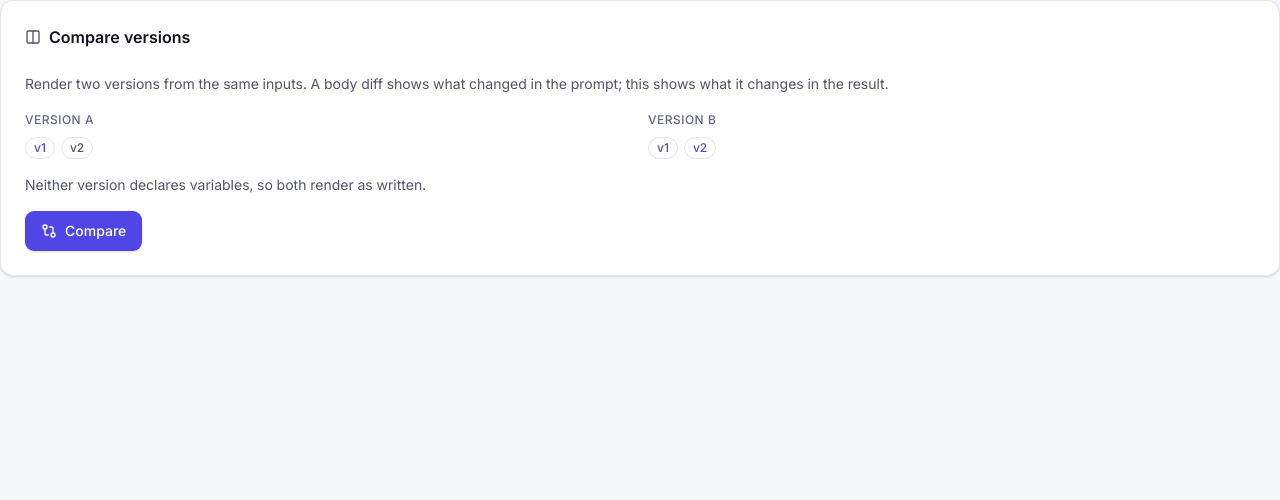
it: PromptComparison › shows both rendered results
The image size is (1280, 500).
Click the button with test id "compare-submit".
click(84, 231)  # box [25,211,142,251]
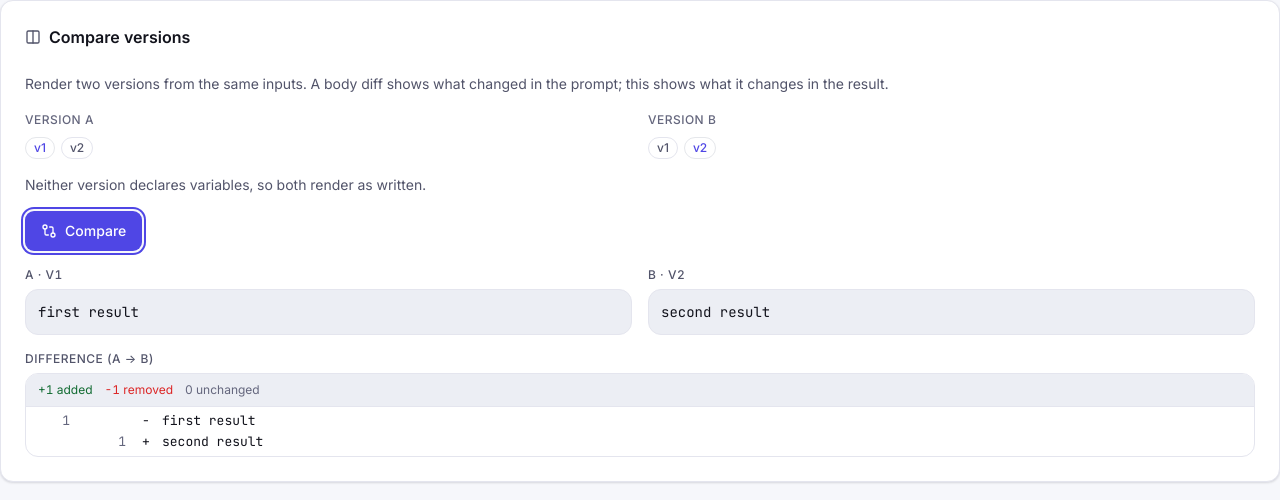
Expected: the element with test id "compare-result" is shown, [25,267,1255,457]
Expected: the element with test id "compare-output-a" shows "first result", [38,303,139,321]
Expected: the element with test id "compare-output-b" shows "second result", [661,303,770,321]
